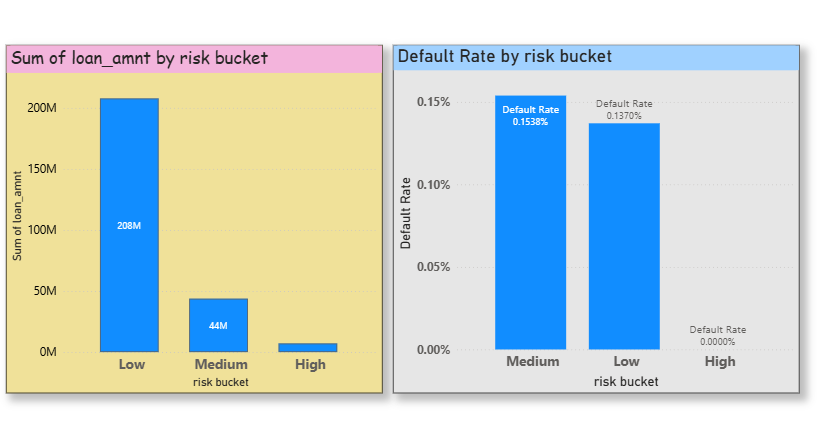

This screenshot's page, from the dashboard's own definition file:
{"tool":"powerbi","page":{"name":"RISK SEGMENTATION","canvas":[1280,720],"ordinal":1},"visuals":[{"type":"clusteredColumnChart","fields":{"Category":["AI DRIVEN CREDIT RISK ANALYSIS.risk bucket"],"Y":["Sum(AI DRIVEN CREDIT RISK ANALYSIS.loan_amnt)"]},"box":[10,0,478,442.2],"z":0},{"type":"clusteredColumnChart","fields":{"Category":["AI DRIVEN CREDIT RISK ANALYSIS.risk bucket"],"Y":["AI DRIVEN CREDIT RISK ANALYSIS.Default Rate"]},"box":[512.9,0,516.7,442.3],"z":1}]}

Visuals, with their boxes on the page's 1280x720 design canvas (x1, y1, x2, y2). These are canvas units, not pixel positions in the 819x427 screenshot, which may show the page scaled, cropped or inside an application window:
clusteredColumnChart - AI DRIVEN CREDIT RISK ANALYSIS.risk bucket x Sum(AI DRIVEN CREDIT RISK ANALYSIS.loan_amnt): bbox(10, 0, 488, 442)
clusteredColumnChart - AI DRIVEN CREDIT RISK ANALYSIS.risk bucket x AI DRIVEN CREDIT RISK ANALYSIS.Default Rate: bbox(513, 0, 1030, 442)
